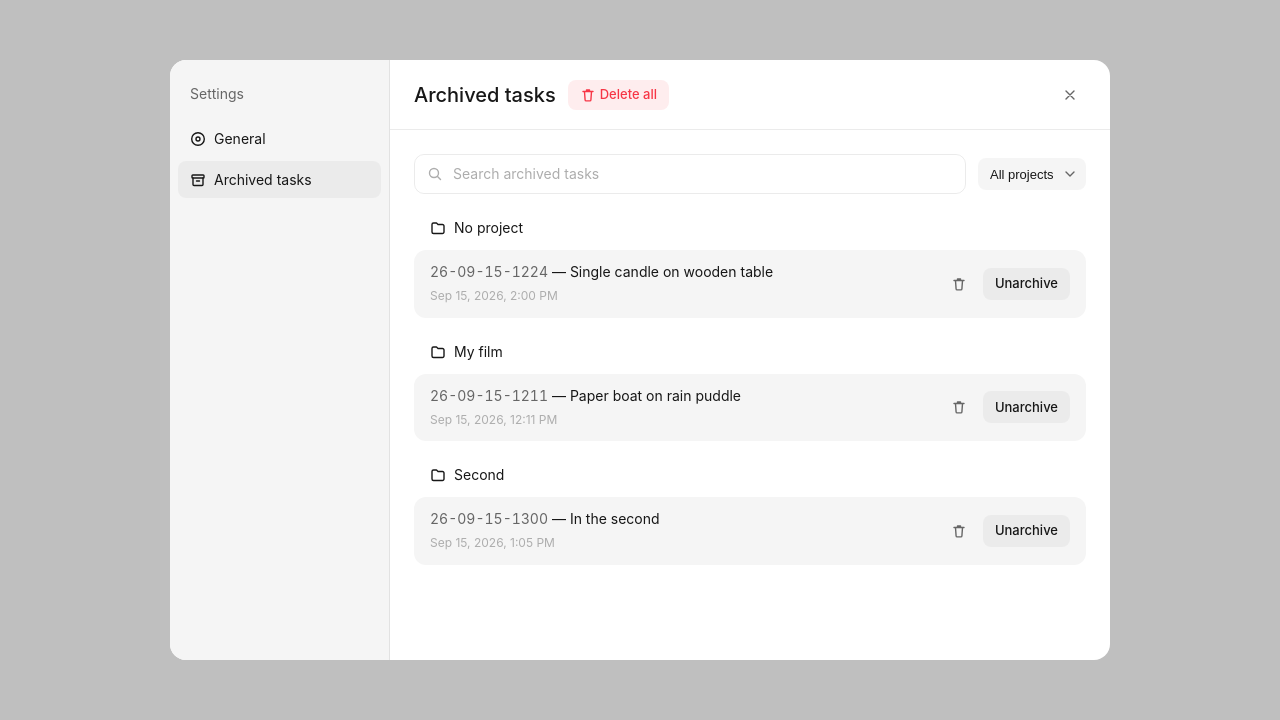
Test: SettingsDialog › Archived tasks (STORY_030; behaviour-recents-archive-03…05) › groups the rows by project with No project first and the All projects filter narrows to one (STORY_031)
Select "My film" in the dropdown named "Project filter". click: {"x": 1032, "y": 174}
box: [978,158,1086,190]
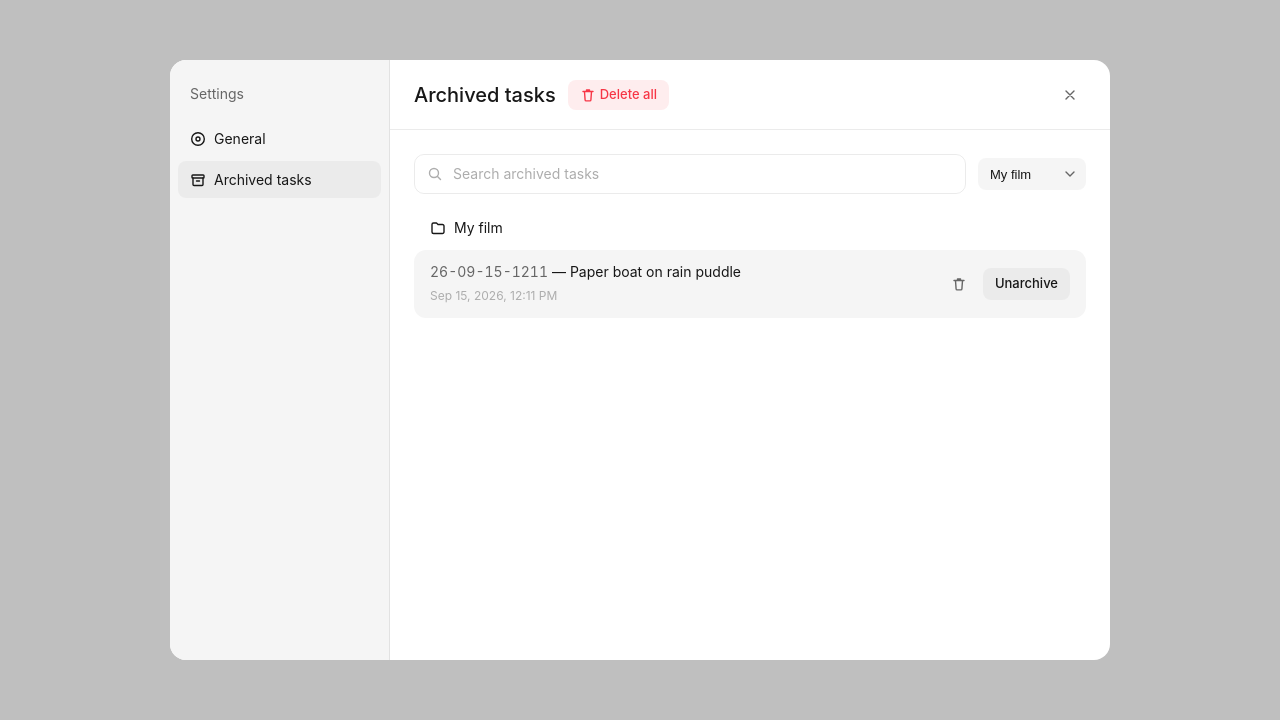
Select "No project" in the dropdown named "Project filter". click: {"x": 1032, "y": 174}
box: [978,158,1086,190]
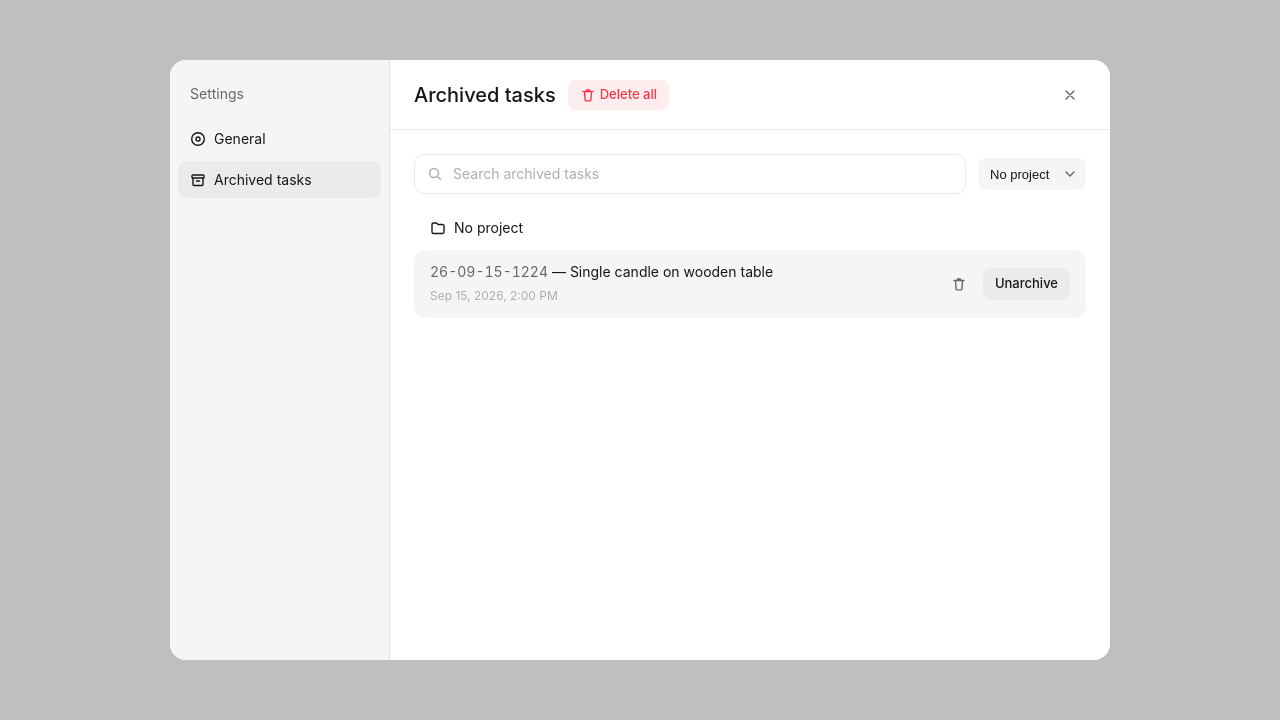
Type "second" into the field labelled "Search archived tasks". click: {"x": 702, "y": 174}
box: [451,163,953,185]
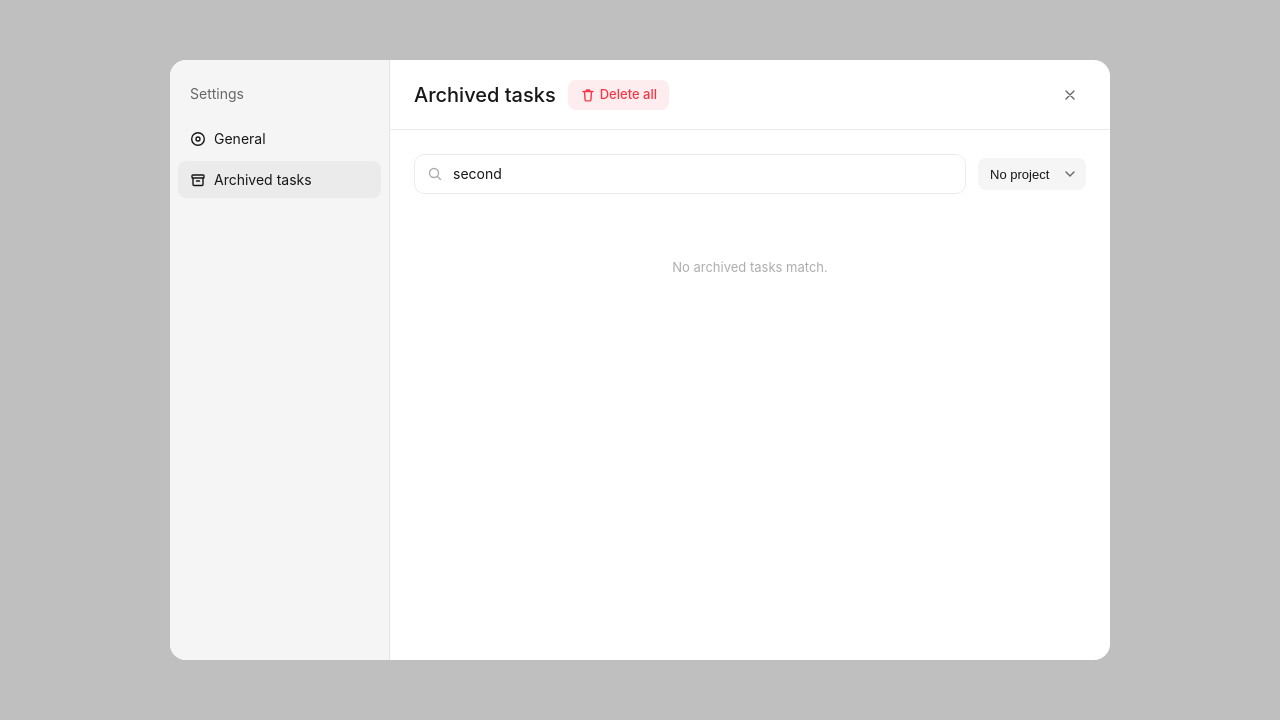
expect the text "No archived tasks match." is shown: met, box [672,259,828,275]
